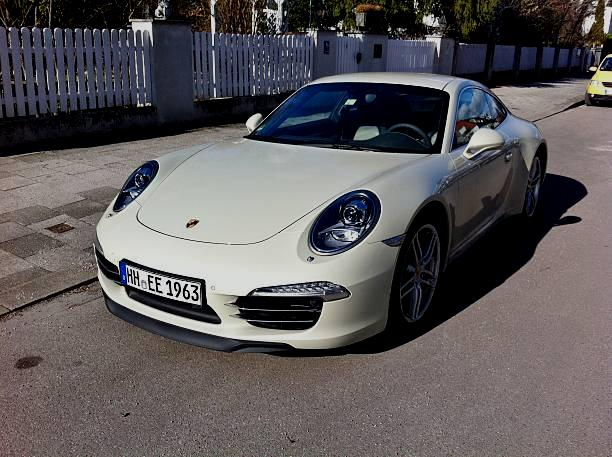porsche: (183, 214, 204, 235)
